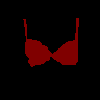reggiseno: (23, 17, 79, 67)
